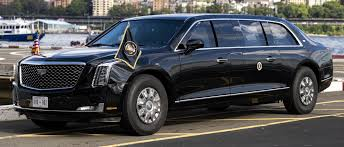car: (14, 14, 332, 139)
